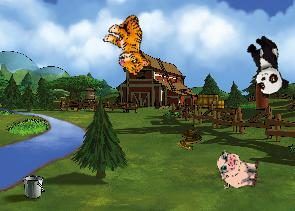panda: (241, 32, 291, 99)
pig: (215, 149, 260, 191)
tiger: (96, 9, 165, 79)
